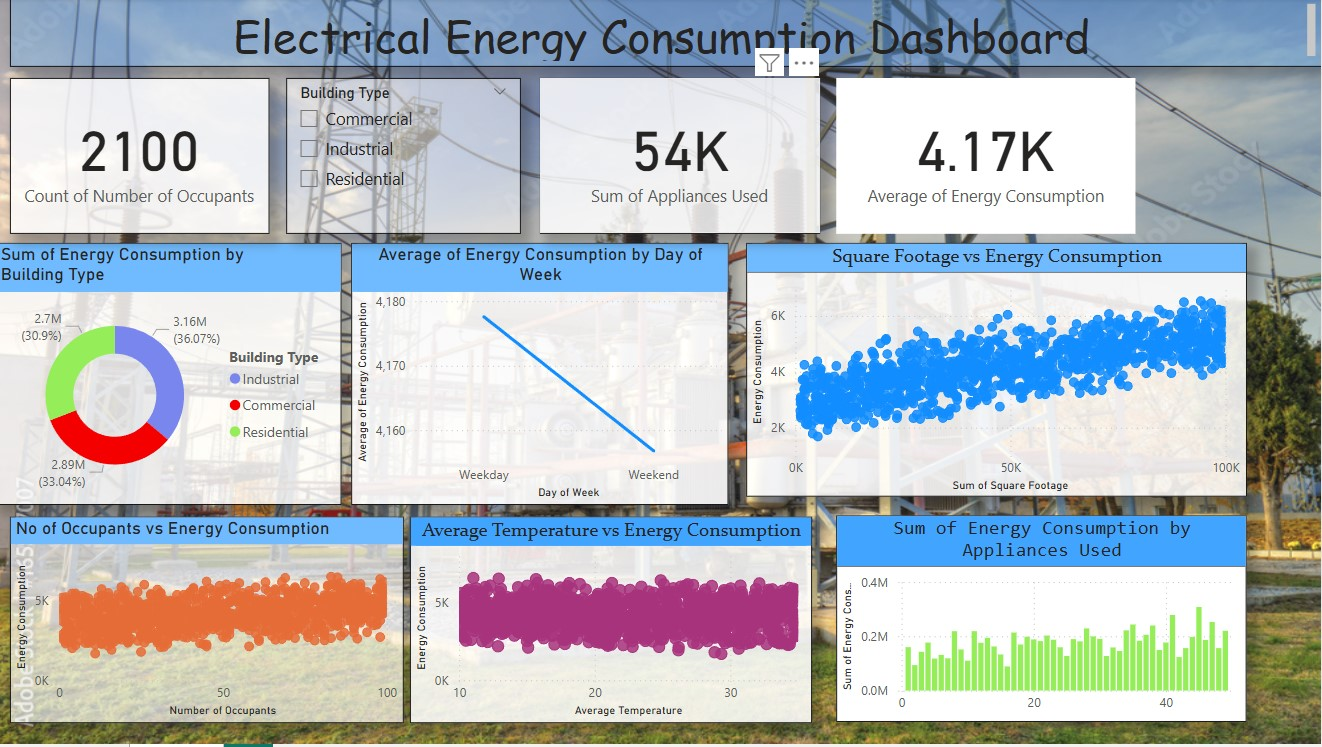

The page's visual inventory and layout, read from the dashboard file:
{"tool":"powerbi","page":{"name":"Page 1","canvas":[1280,720],"ordinal":0},"visuals":[{"type":"donutChart","fields":{"Y":["Sum(Append1.Energy Consumption)"],"Category":["Append1.Building Type"]},"box":[0,236,334,253],"z":0},{"type":"textbox","box":[13.9,0,1266.1,66.8],"z":1000},{"type":"lineChart","fields":{"Category":["Append1.Day of Week"],"Y":["Avg(Append1.Energy Consumption)"]},"box":[344,236,364,253],"z":2000},{"type":"slicer","fields":{"Values":["Append1.Building Type"]},"box":[281,77,226,150],"z":3000},{"type":"scatterChart","title":" Square Footage vs Energy Consumption","fields":{"X":["Sum(Append1.Square Footage)"],"Y":["Append1.Energy Consumption"]},"box":[725,236,483,245],"z":4000},{"type":"scatterChart","title":"No of Occupants vs Energy Consumption","fields":{"X":["Append1.Number of Occupants"],"Y":["Append1.Energy Consumption"]},"box":[14,501,380,199],"z":5000},{"type":"scatterChart","title":"Average Temperature   vs  Energy Consumption","fields":{"X":["Append1.Average Temperature"],"Y":["Append1.Energy Consumption"]},"box":[401,501,388,199],"z":6000},{"type":"clusteredColumnChart","fields":{"Y":["Sum(Append1.Energy Consumption)"],"Category":["Append1.Appliances Used"]},"box":[812,500,396,199],"z":7000},{"type":"card","fields":{"Values":["CountNonNull(Append1.Number of Occupants)"]},"box":[14,77,250,150],"z":8000},{"type":"card","fields":{"Values":["Sum(Append1.Appliances Used)"]},"box":[526,77,270,150],"z":9000},{"type":"card","fields":{"Values":["Avg(Append1.Energy Consumption)"]},"box":[812,77,289,150],"z":9001}]}

Visuals, with their boxes in screenshot pixels (x1, y1, x2, y2), scaled from the page's 1280x720 canvas onto the 1322x747 screenshot:
donutChart - Sum(Append1.Energy Consumption) x Append1.Building Type: box(0, 245, 345, 507)
textbox: box(14, 0, 1321, 69)
lineChart - Append1.Day of Week x Avg(Append1.Energy Consumption): box(355, 245, 731, 507)
slicer - Append1.Building Type: box(290, 80, 524, 236)
" Square Footage vs Energy Consumption" scatterChart: box(749, 245, 1248, 499)
"No of Occupants vs Energy Consumption" scatterChart: box(14, 520, 407, 726)
"Average Temperature   vs  Energy Consumption" scatterChart: box(414, 520, 815, 726)
clusteredColumnChart - Sum(Append1.Energy Consumption) x Append1.Appliances Used: box(839, 519, 1248, 725)
card - CountNonNull(Append1.Number of Occupants): box(14, 80, 273, 236)
card - Sum(Append1.Appliances Used): box(543, 80, 822, 236)
card - Avg(Append1.Energy Consumption): box(839, 80, 1137, 236)
